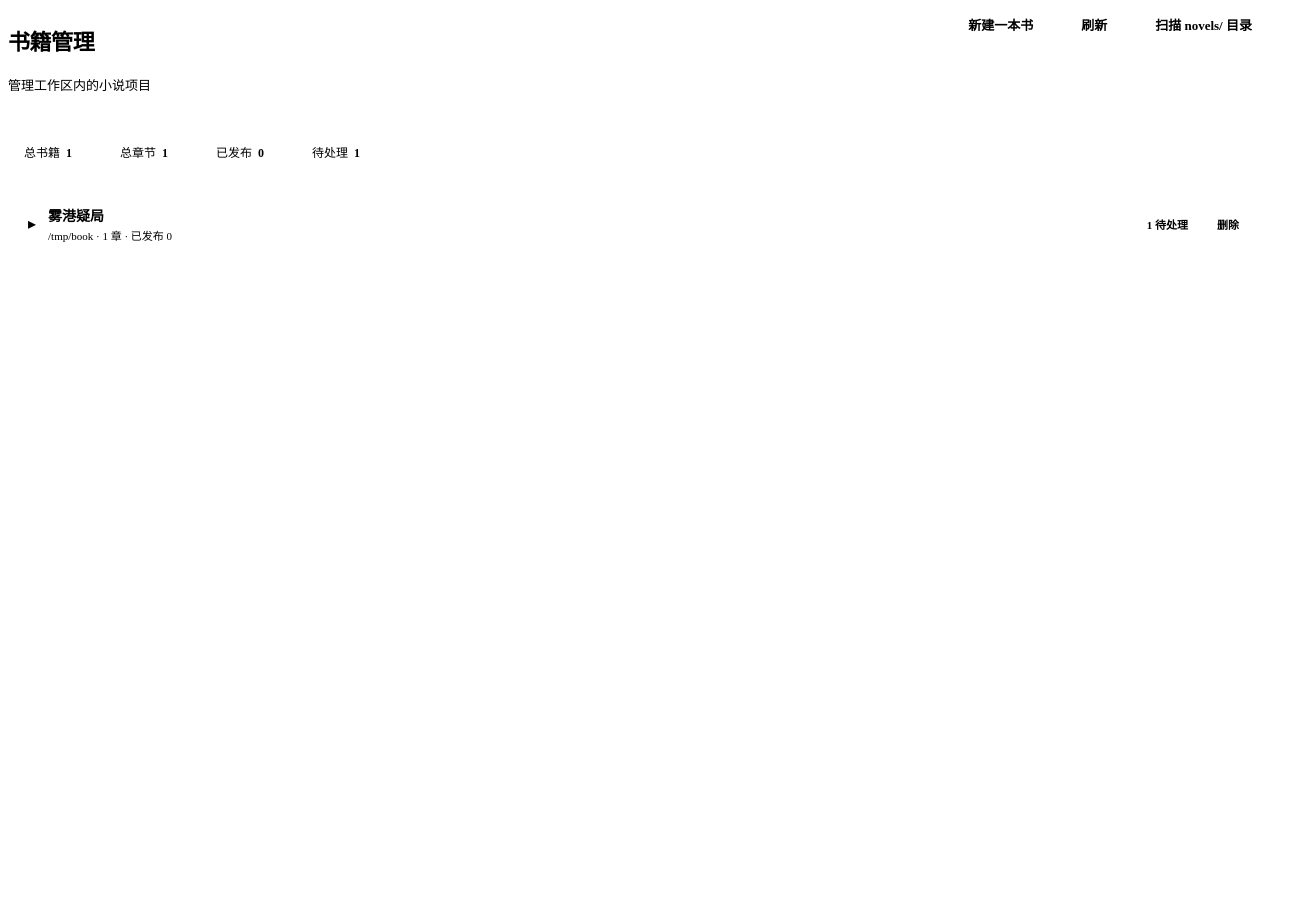
Scenario: BooksPage book entry › opens chapter action menu with advanced actions
Click the text "雾港疑局". click: (76, 216)
box: [48,208,104,224]
(page scrolled)
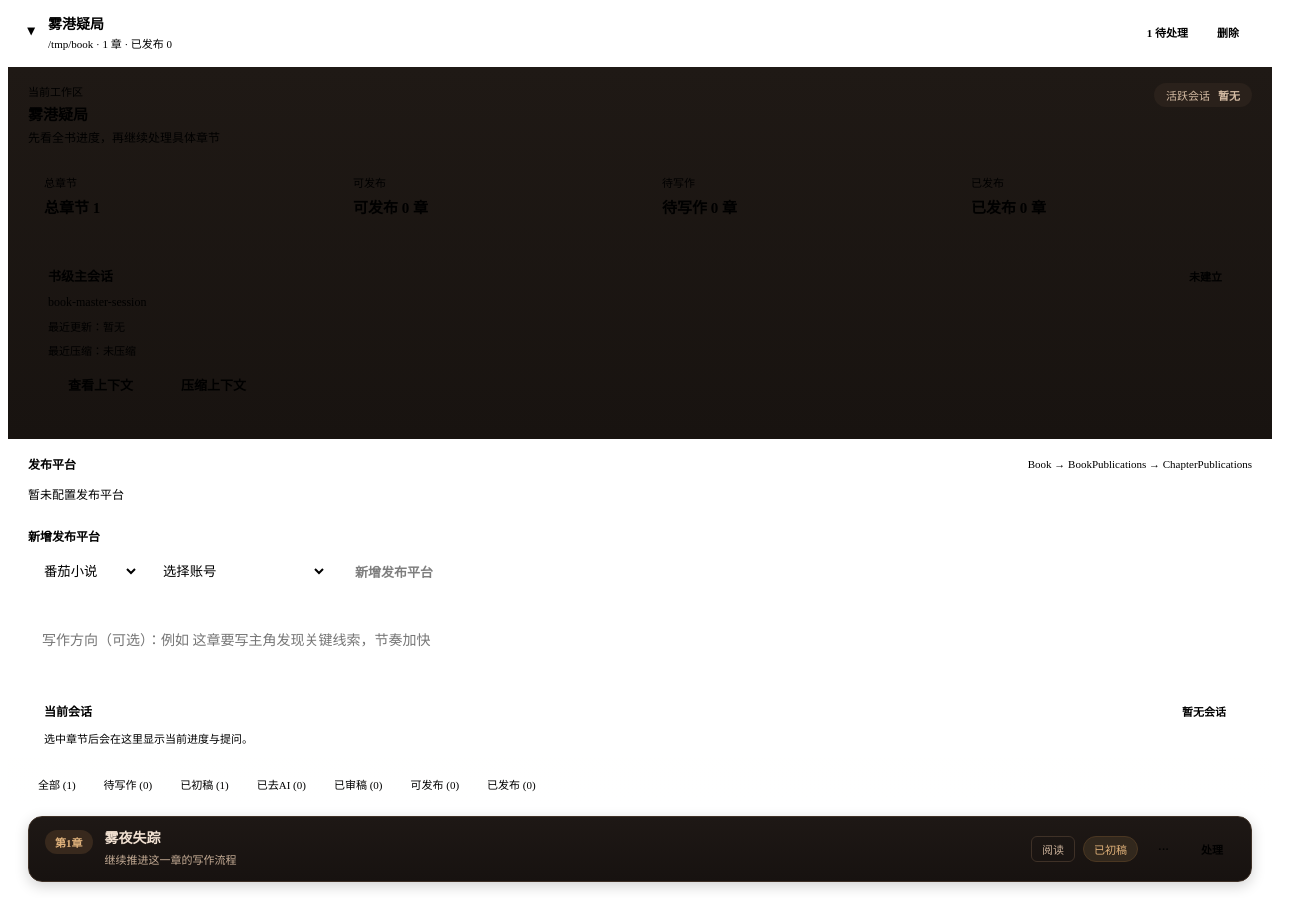
Click the button "···". click: (1164, 849)
box: [1146,839,1181,859]
(page scrolled)
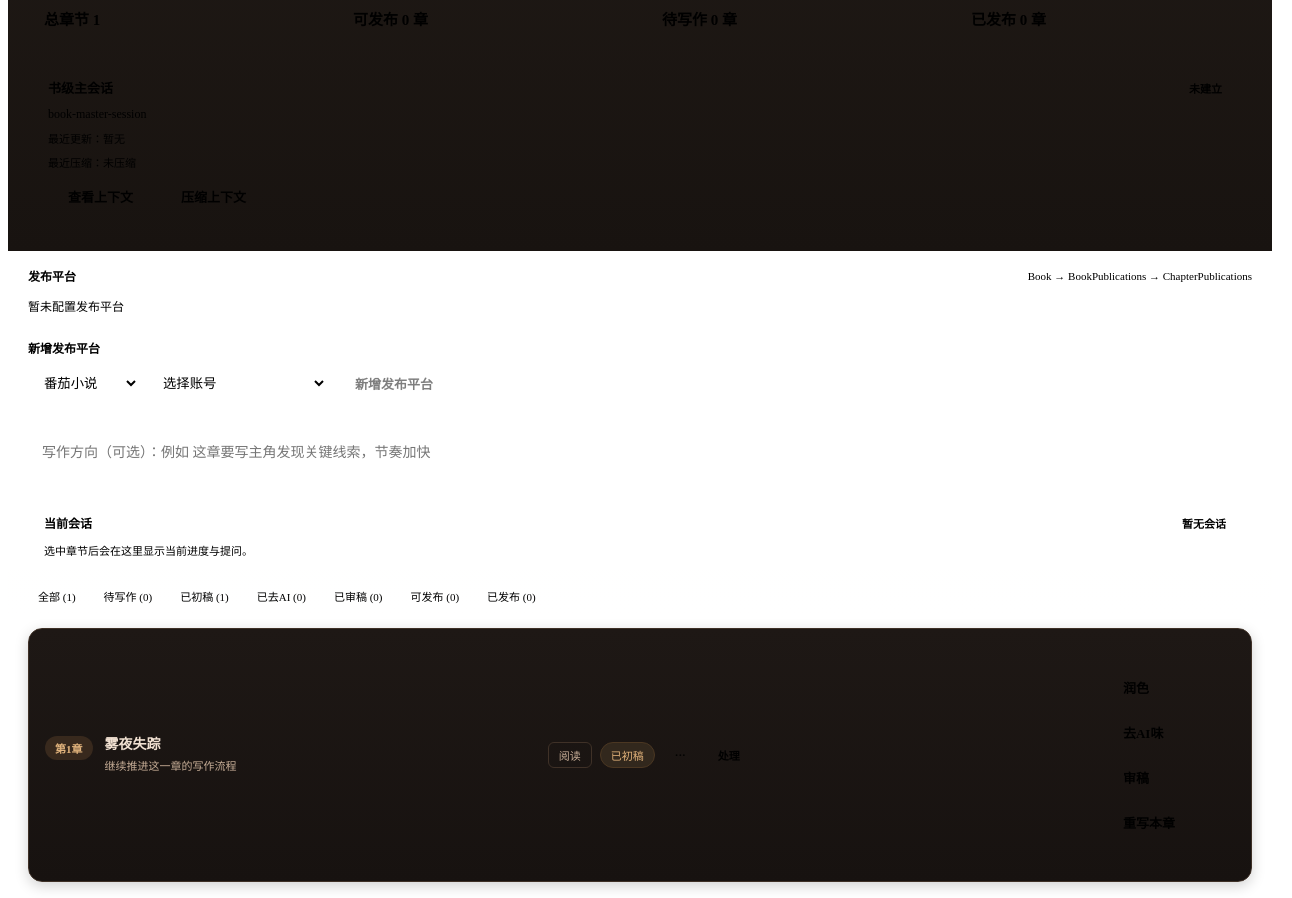
Now the button "润色" is shown, box [1103,669,1195,706]
Now the button "去AI味" is shown, box [1103,714,1195,751]
Now the button "审稿" is shown, box [1103,759,1195,796]
